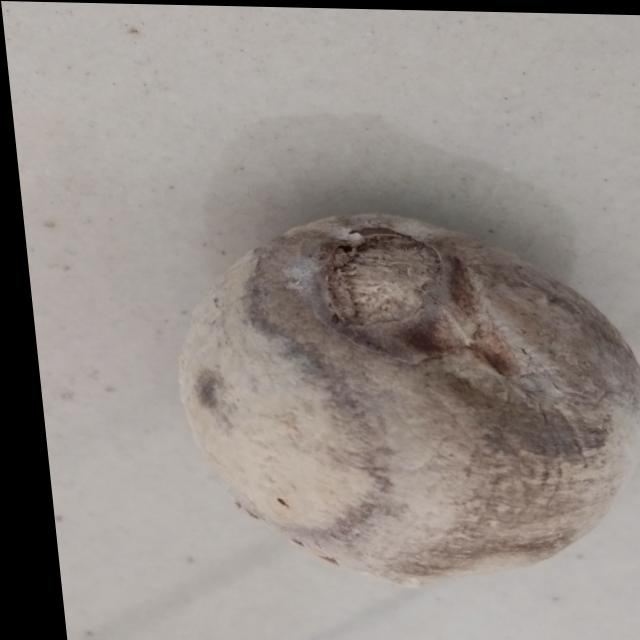karigot: (124, 195, 640, 607)
